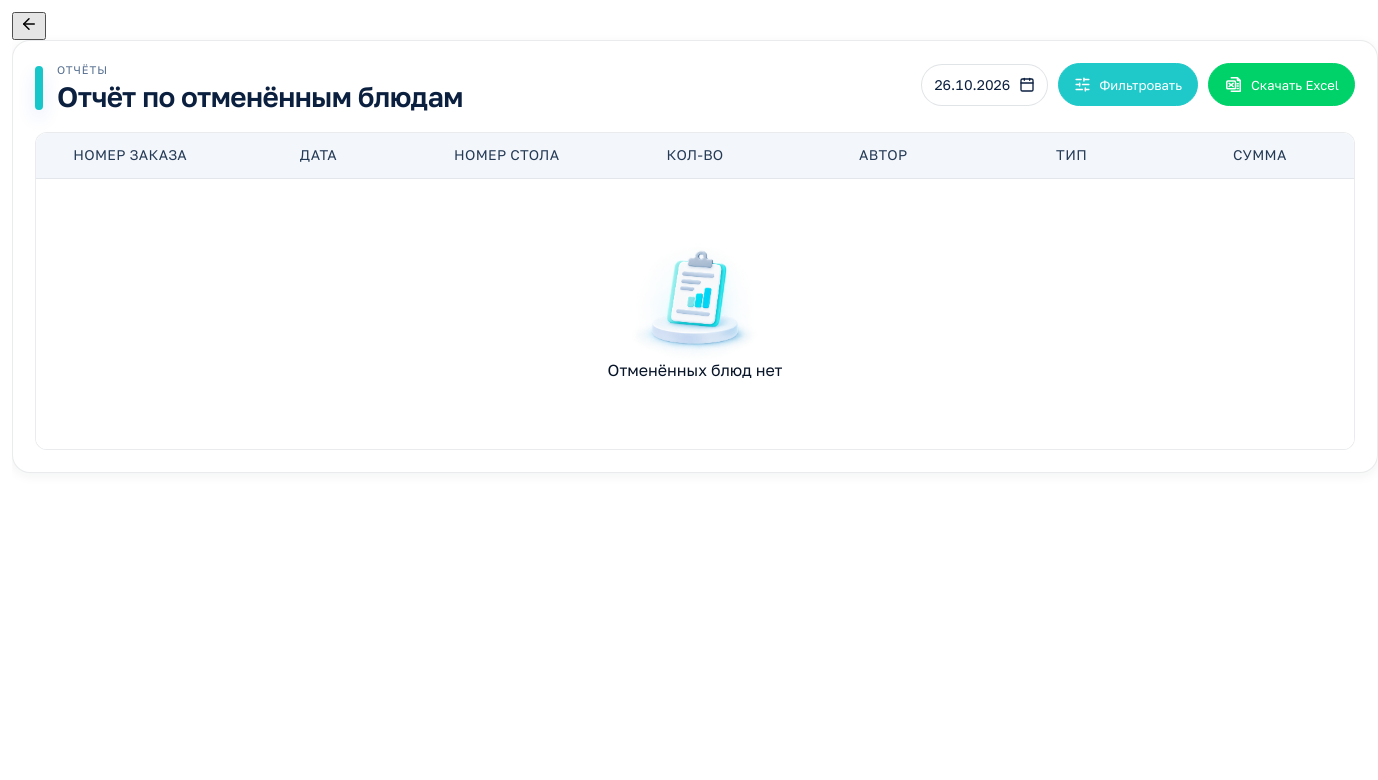
Test: CancelledDishesReportPage Phase 1B › renders the waiter+cashier author directory even when rows are empty
This screenshot has width=1378, height=780.
Click the button "Фильтровать" at point(1128, 84), box [1058,63,1198,106]
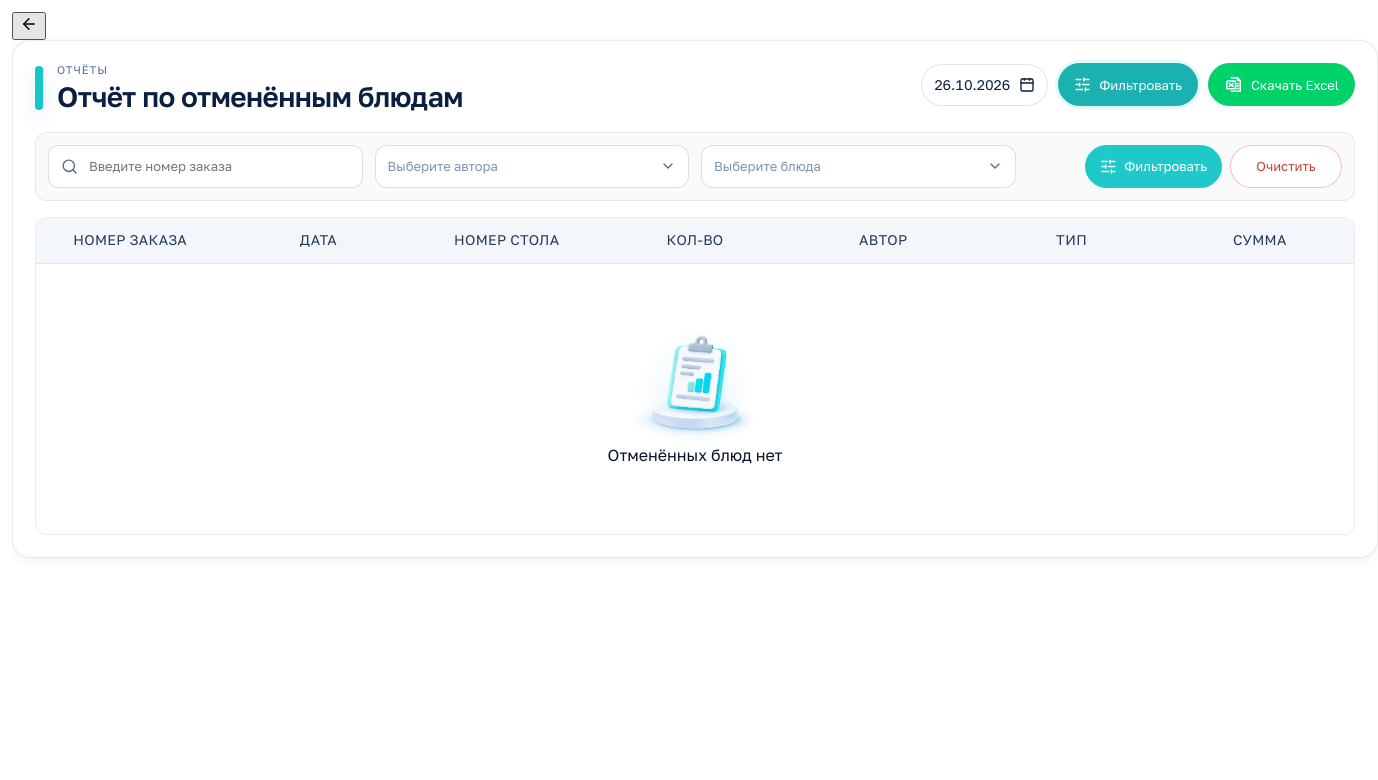
Click the dropdown labelled "автор" at point(443, 166), box [374,145,689,188]
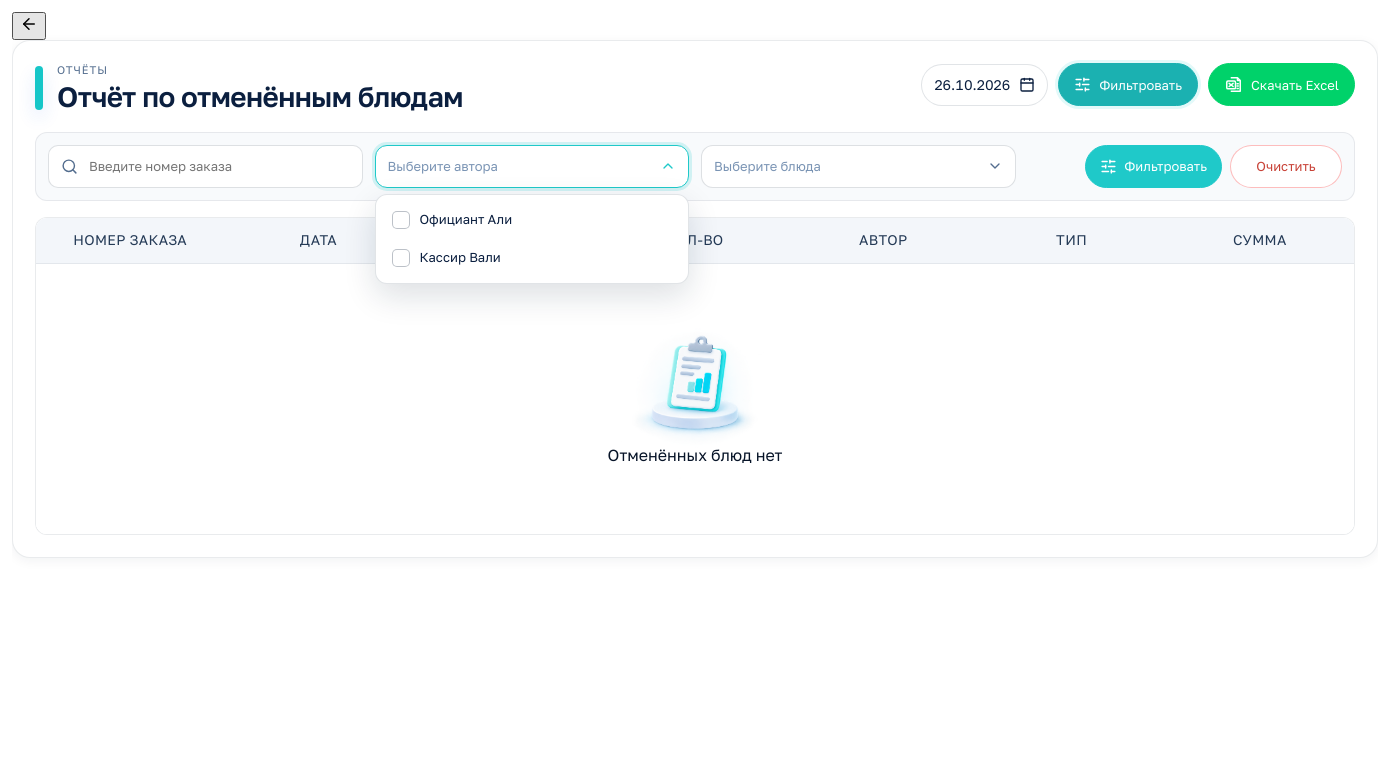
Expected: the text "Официант Али" is shown, [420,210,512,230]
Expected: the text "Кассир Вали" is shown, [420,248,501,268]
